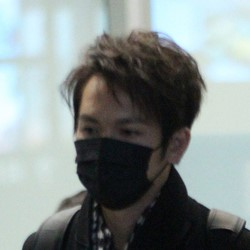mask: (72, 135, 159, 213)
